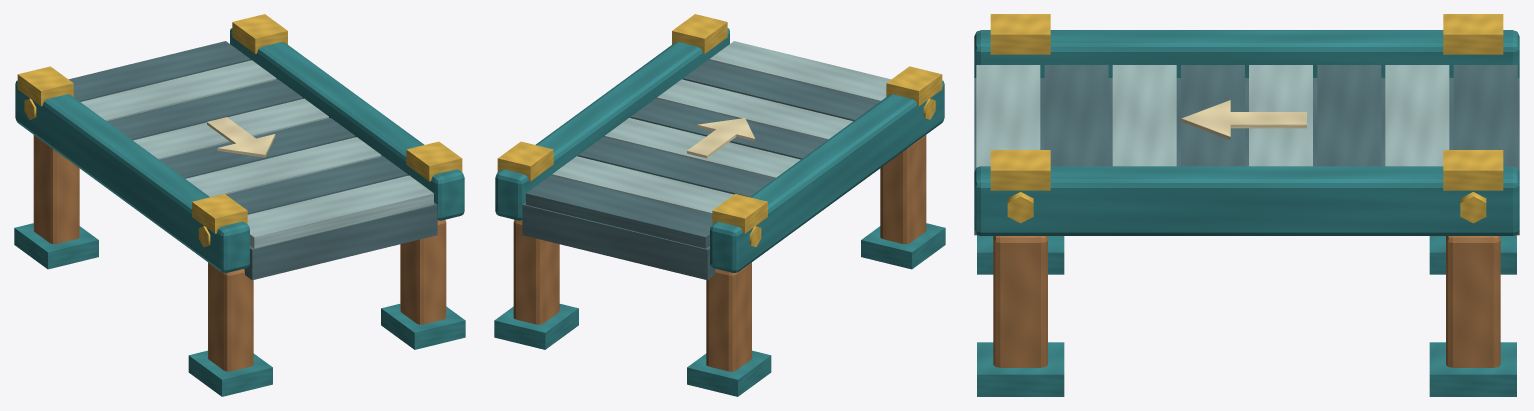
Rendered from industry-conveyor-straight.glb.
3 views of the same model, side by side, from view 1: azimuth 30°, elevation 25°; view 2: azimuth 150°, elevation 25°; view 3: azimuth 270°, elevation 25° (orthographic). The views are drawn at different scales.
Parts seen in each view (by area): view 1: industry-conveyor-straight-mesh; view 2: industry-conveyor-straight-mesh; view 3: industry-conveyor-straight-mesh.
Part boxes in pixels (box(x1,y1,x2,y2)): industry-conveyor-straight-mesh: box(14, 14, 465, 396); industry-conveyor-straight-mesh: box(494, 14, 945, 396); industry-conveyor-straight-mesh: box(974, 14, 1519, 396).
Bounding box in the file's own units: 1.4 × 0.92 × 2.
Materials: 1 (1 with a texture image).
